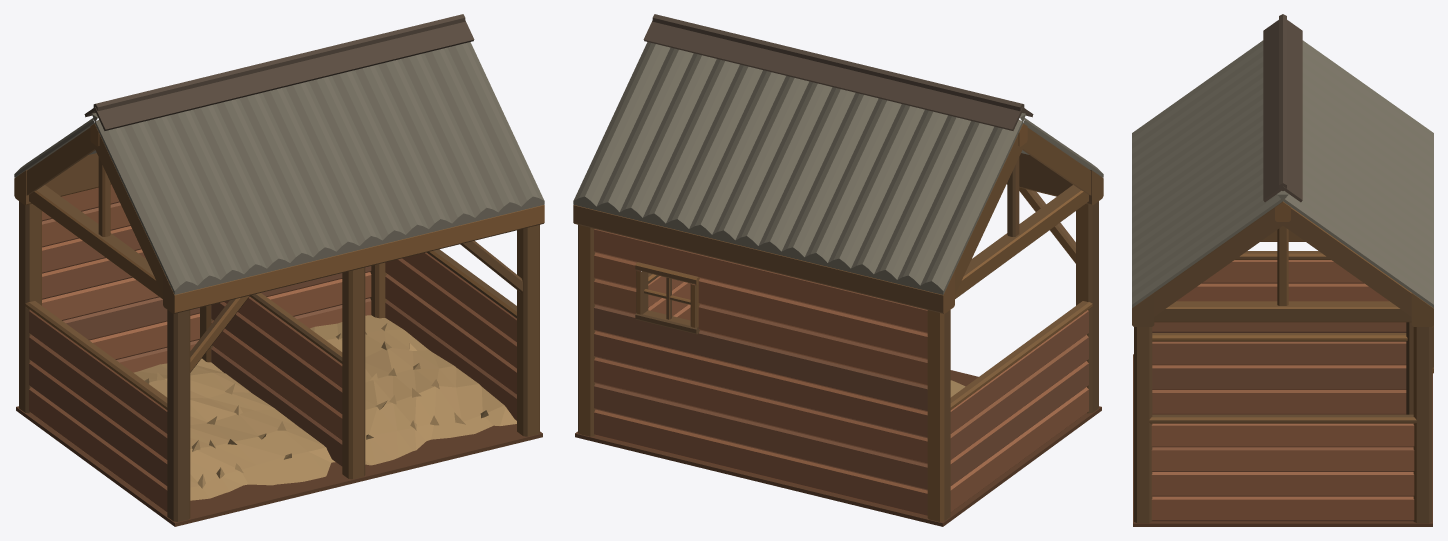
The model's file is open-stable-dbf2d5.glb.
3 renders of one model, left to right at view 1: azimuth 30°, elevation 25°; view 2: azimuth 150°, elevation 25°; view 3: azimuth 270°, elevation 25°, orthographic. The views are drawn at different scales.
Parts seen in each view (by area): view 1: open-stable-body; view 2: open-stable-body; view 3: open-stable-body.
Part boxes in pixels (box(x1,y1,x2,y2)): open-stable-body: box(14, 14, 544, 526); open-stable-body: box(573, 14, 1103, 526); open-stable-body: box(1132, 14, 1433, 526).
Size of the model in its own units: 4 by 3.77 by 3.
